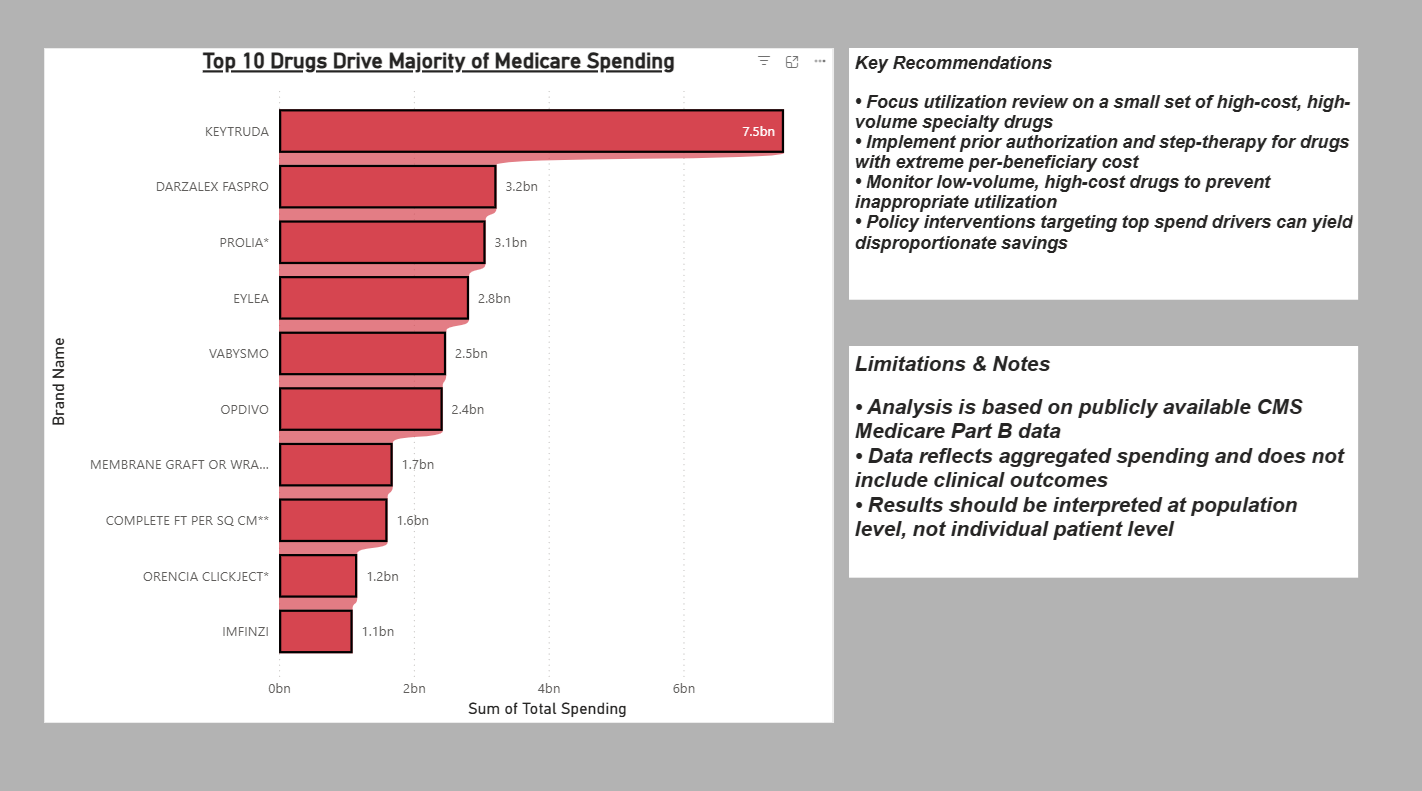

Layout of this report page (visuals, bound fields, positions):
{"tool":"powerbi","page":{"name":"Recommendations & Takeaways","canvas":[1280,720],"ordinal":2},"visuals":[{"type":"barChart","title":"Top 10 Drugs Drive Majority of Medicare Spending","fields":{"Category":["Medicare_Part_B.Brand Name"],"Y":["Sum(Medicare_Part_B.Total Spending)"]},"box":[41.1,48.3,708.8,606.1],"z":0},{"type":"textbox","box":[764.3,48.3,457.1,226],"z":1},{"type":"textbox","box":[764.3,316.4,457.1,207.5],"z":2}]}

Visuals, with their boxes in screenshot pixels (x1, y1, x2, y2), scaled from the page's 1280x720 canvas onto the 1422x791 screenshot:
"Top 10 Drugs Drive Majority of Medicare Spending" barChart: rect(46, 53, 833, 719)
textbox: rect(849, 53, 1357, 301)
textbox: rect(849, 348, 1357, 576)
